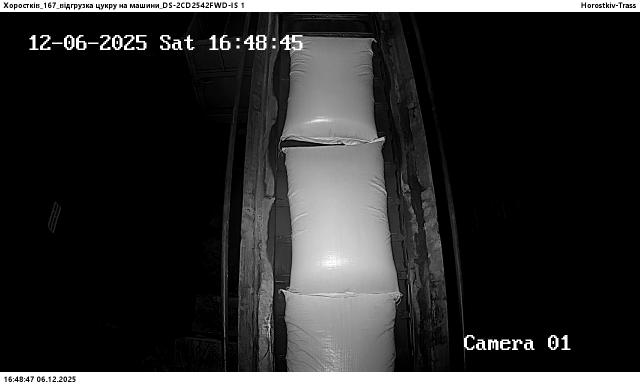bag: (283, 138, 400, 295), (282, 36, 382, 145), (281, 294, 398, 372)
